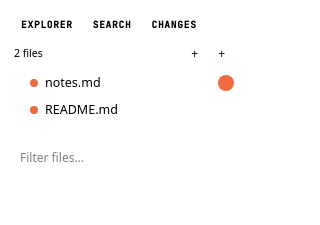
Test: D339 the Explorer header switches EXPLORER · SEARCH · CHANGES › an agent-change marker opens Changes on its checkpoint, and asks again next time
What coordinates should you click on to do the following:
click the button with test id "tree-change-notes.md"
I would click on:
 (226, 83)
Its box is [218,75,234,91].
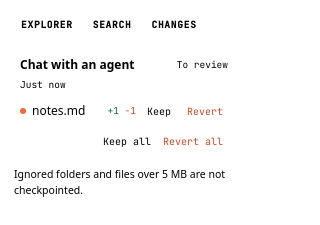
What coordinates should you click on to do the following:
click the tab "EXPLORER"
I would click on:
 (47, 25)
Its box is [12,14,82,36].
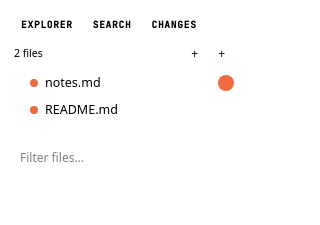
What coordinates should you click on to do the following:
click the button with test id "tree-change-notes.md"
I would click on:
 (226, 83)
Its box is [218,75,234,91].
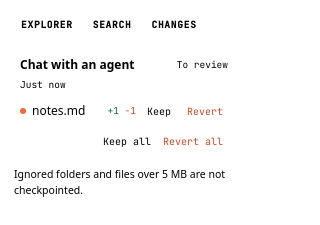
Result: the element named "Changes" is shown at [0,46,248,209]
